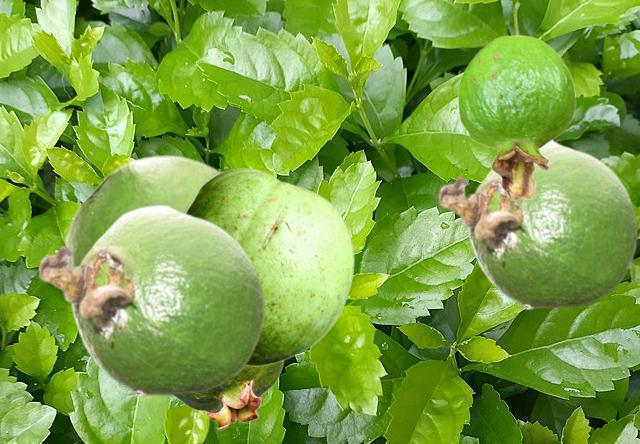guava: (37, 203, 265, 396), (64, 153, 240, 376), (437, 140, 638, 309), (185, 168, 353, 365), (457, 34, 575, 200), (174, 362, 284, 429)
